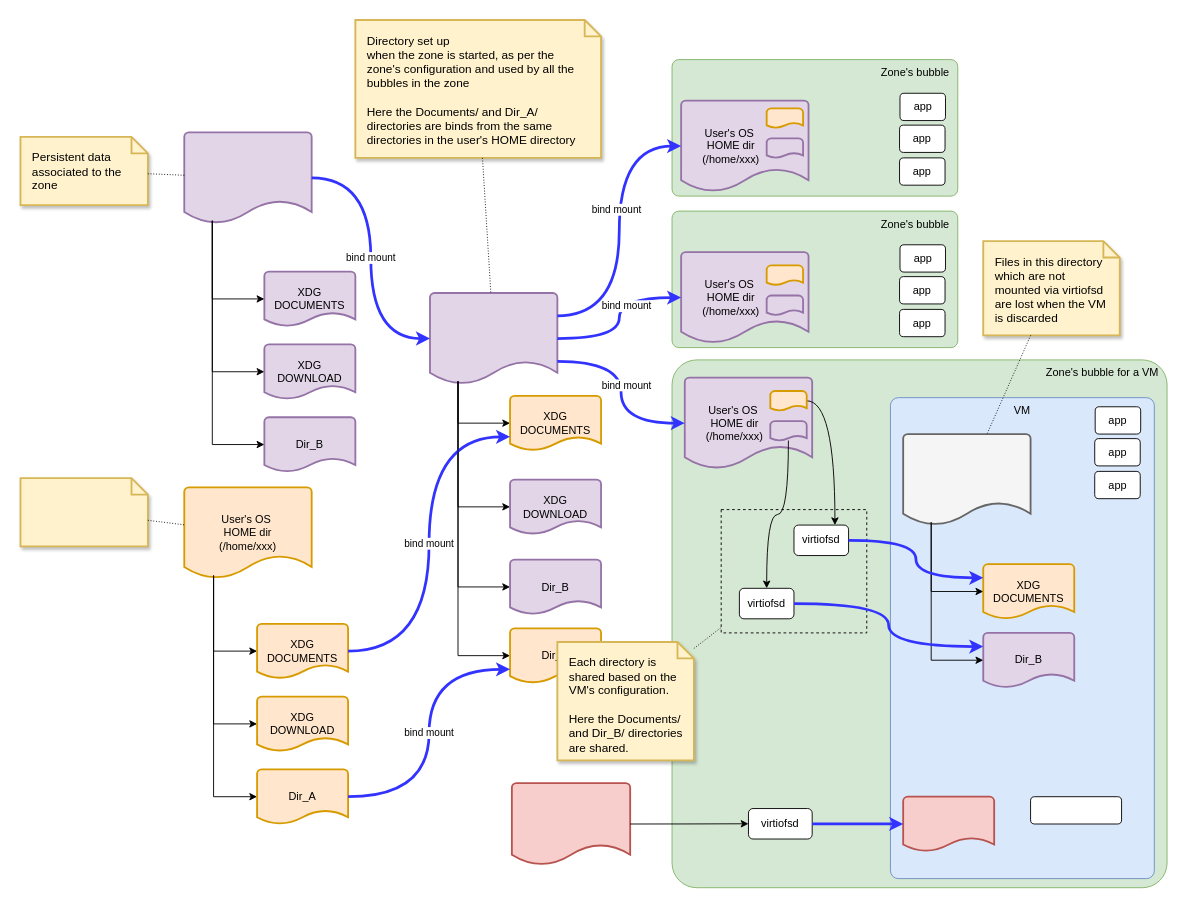
Some shapes in this 1183 by 904 pixel diagram are drawn without their labels. Here are the shapes that lost their labels. From the top down, the centre of each, then its label:
At (x=247, y=177): "User's zone HOME dir (/var/padsi/home/ <UID>/<zone>)".
At (x=493, y=338): "Zone runtime HOME dir (/run/padsi/user/ <UID>/<zone>_userfiles)".
At (x=966, y=479): "User's OS HOME dir (/home/xxx or C:\Users\xxx)".
At (x=84, y=513): "User's data in the host OS".
At (x=571, y=823): "VM's management dir (/run/padsi/)".
At (x=948, y=823): "/run/padsi-agent".
At (x=1076, y=810): "padsi-service".
